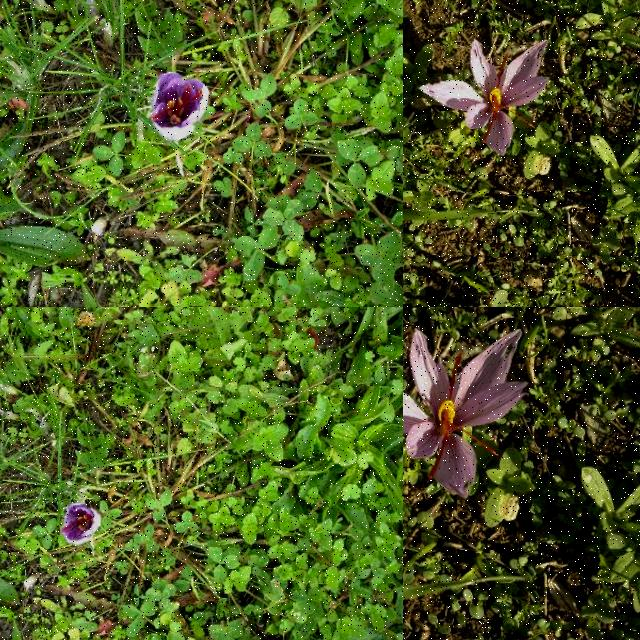flower: (403, 329, 526, 498), (422, 40, 552, 156), (150, 72, 210, 140), (60, 502, 100, 546)
